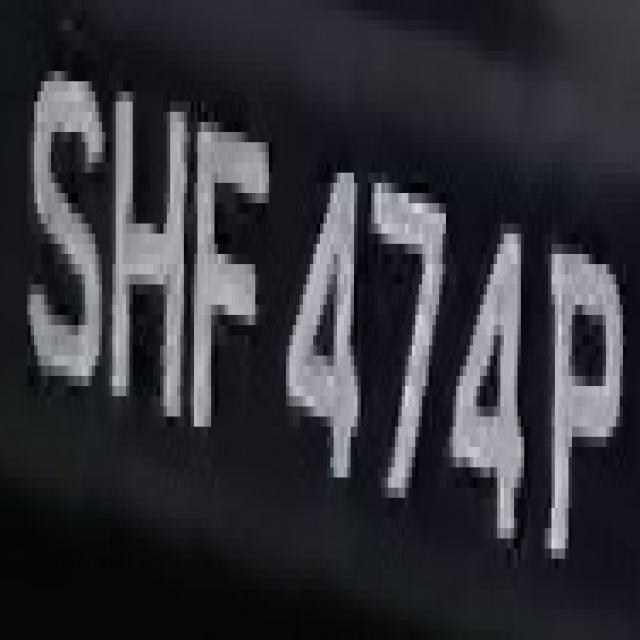4: (450, 163, 534, 528), (286, 122, 364, 498)
7: (364, 102, 446, 528)
F: (194, 81, 266, 478)
H: (92, 41, 187, 427)
P: (545, 183, 626, 599)
S: (28, 21, 96, 407)
